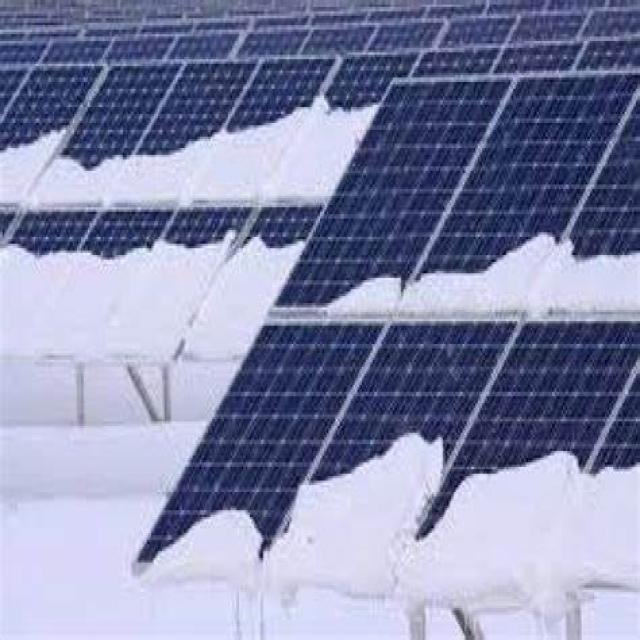snow covered: (160, 55, 638, 562), (3, 58, 289, 235)
